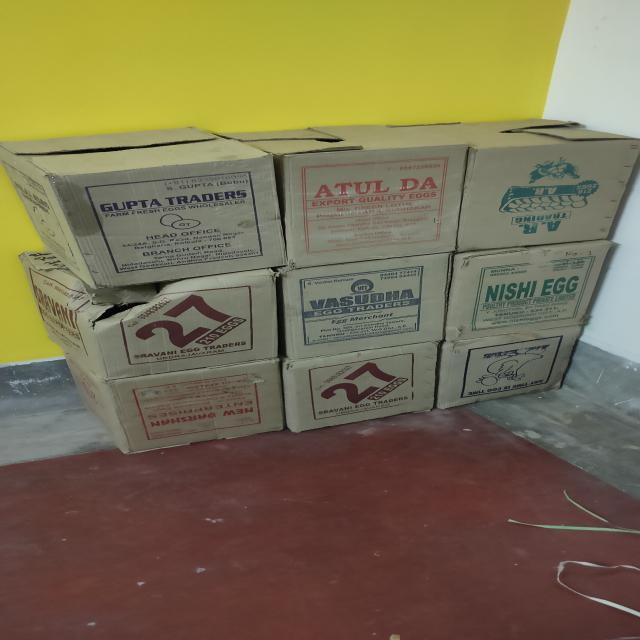squeeze: (17, 267, 230, 363)
